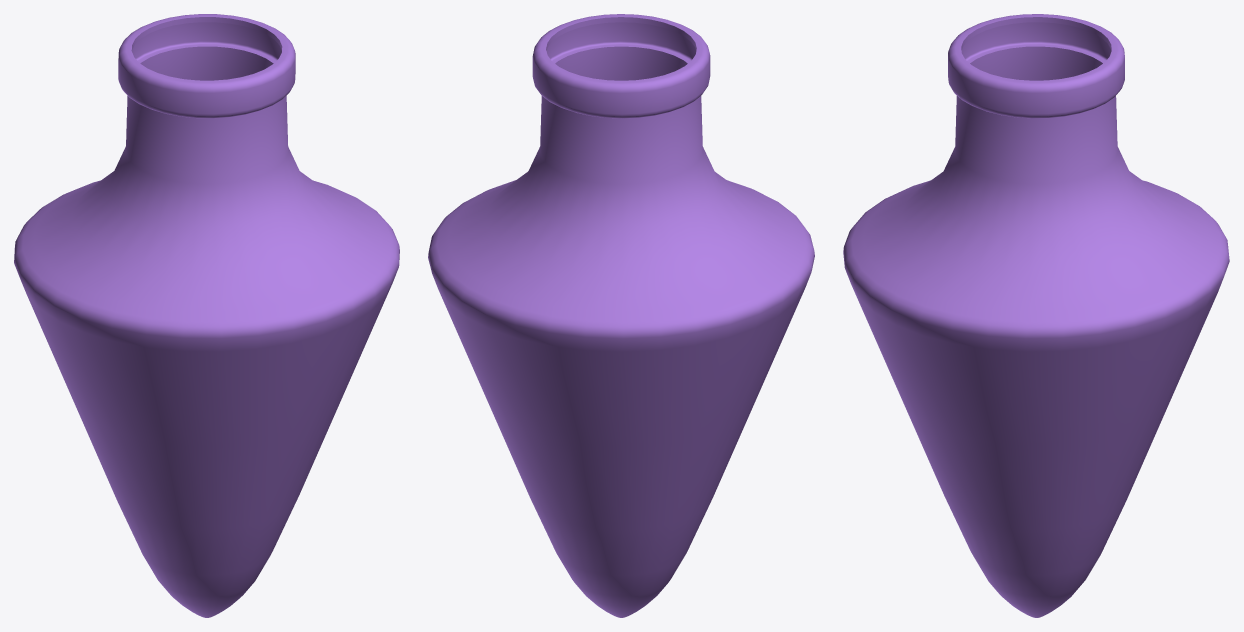
The model's file is Pocion.fbx.
The picture shows the model from 3 angles, left to right: view 1: azimuth 30°, elevation 25°; view 2: azimuth 150°, elevation 25°; view 3: azimuth 270°, elevation 25°; orthographic projection.
Visible parts, largest first — view 1: Embase_Posion; view 2: Embase_Posion; view 3: Embase_Posion.
Part boxes in pixels (x1=…): Embase_Posion: x1=14, y1=14, x2=399, y2=617; Embase_Posion: x1=428, y1=14, x2=814, y2=617; Embase_Posion: x1=843, y1=14, x2=1229, y2=617.
Bounding box in the file's own units: 6.38 × 10.35 × 6.38.
